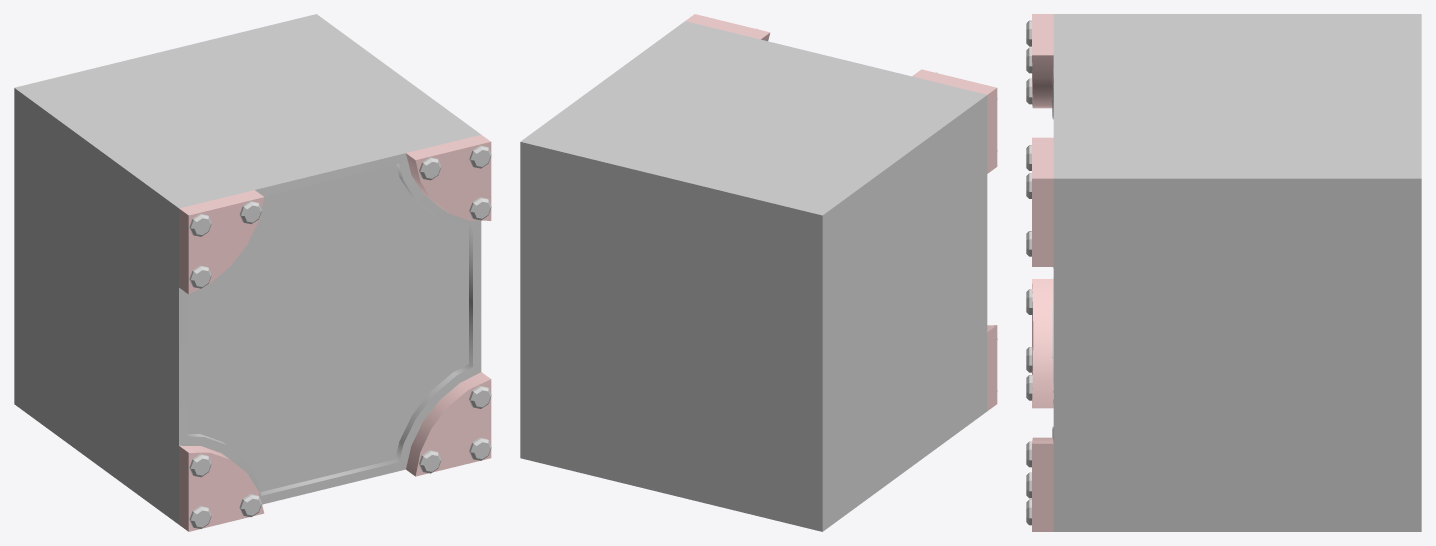
Rendered from StandartBlock.fbx.
3 renders of one model, left to right at view 1: azimuth 30°, elevation 25°; view 2: azimuth 150°, elevation 25°; view 3: azimuth 270°, elevation 25°, orthographic. The views are drawn at different scales.
Parts seen in each view (by area): view 1: Block; view 2: Block; view 3: Block.
Boxes of the visible parts, x1=… form: Block: x1=14, y1=14, x2=491, y2=531; Block: x1=520, y1=14, x2=997, y2=531; Block: x1=1026, y1=14, x2=1421, y2=531.
Size of the model in its own units: 1 by 1 by 1.01.
